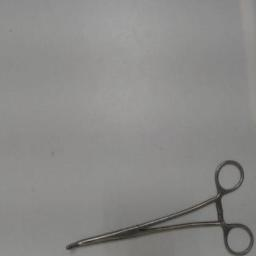Lahey Forceps: (62, 156, 254, 254)
